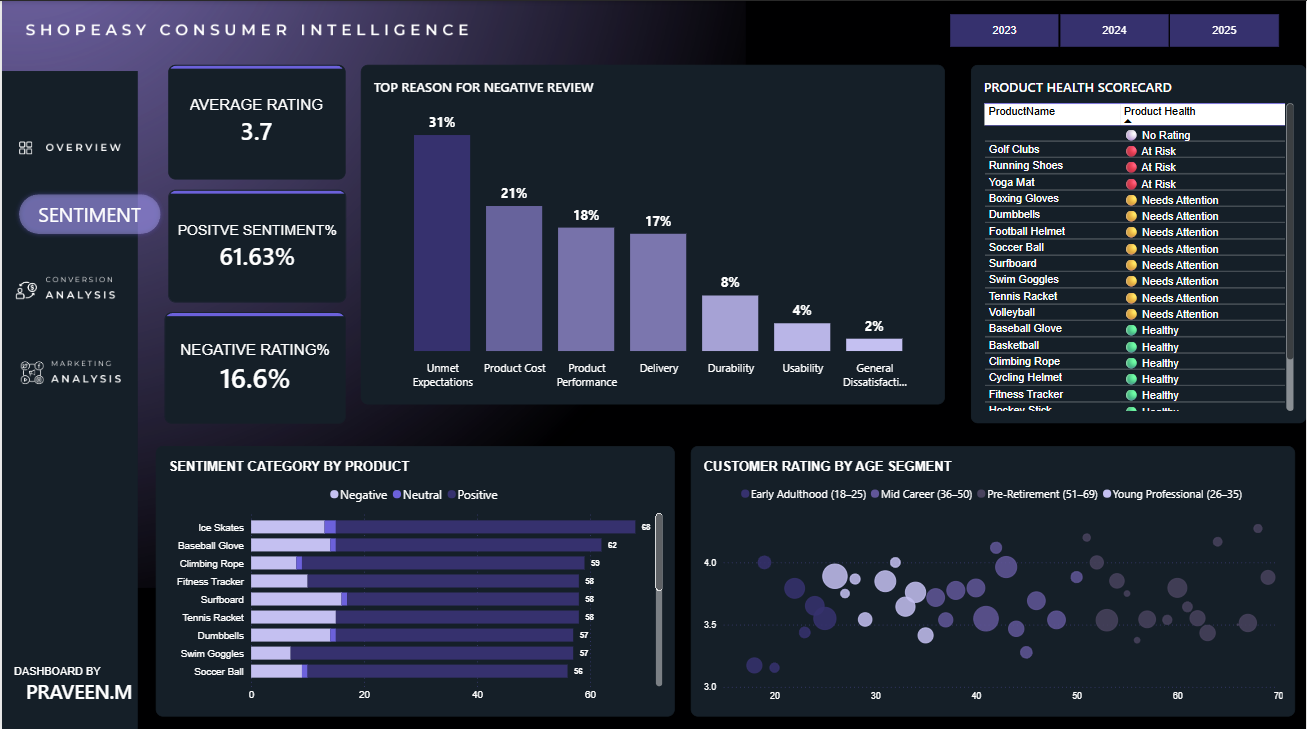

The page's visual inventory and layout, read from the dashboard file:
{"tool":"powerbi","page":{"name":" Customer Sentiment","canvas":[1600,900],"ordinal":1},"visuals":[{"type":"cardVisual","fields":{"Data":["calculations.average rating"]},"box":[204,78.2,217.8,141.1],"z":0},{"type":"barChart","title":"SENTIMENT CATEGORY BY PRODUCT","fields":{"Category":["products.ProductName"],"Y":["CountNonNull(customer_reviews_sentiment.ReviewID)"],"Series":["customer_reviews_sentiment.SentimentCategory"]},"box":[188.3,546.7,636.7,331.7],"z":1000},{"type":"shape","box":[0,216.7,161.7,63.3],"z":2000},{"type":"clusteredColumnChart","title":"TOP REASON FOR NEGATIVE  REVIEW","fields":{"Category":["negative_reviews_issues.IssueCategory"],"Y":["Divide(CountNonNull(negative_reviews_issues.IssueCategory), ScopedEval(CountNonNull(negative_reviews_issues.IssueCategor"]},"box":[440,78.3,716.7,416.7],"z":3000},{"type":"scatterChart","title":"CUSTOMER RATING BY AGE SEGMENT","fields":{"Series":["customers.Age Segment"],"X":["customers.Age"],"Size":["CountNonNull(customer_reviews_sentiment.ReviewID)"],"Y":["Avg(customer_reviews_sentiment.Rating)"]},"box":[845,546.7,741.7,331.7],"z":4000},{"type":"tableEx","title":"PRODUCT HEALTH SCORECARD","fields":{"Values":["products.ProductName","calculations.Product Health"]},"box":[1188.3,78.3,411.7,440],"z":5000},{"type":"cardVisual","fields":{"Data":["calculations.% Positive Sentiment"]},"box":[203.3,231.7,218.3,138.3],"z":6000},{"type":"cardVisual","fields":{"Data":["negative_reviews_issues.neagtive review %"]},"box":[199.4,381.9,222.4,136.5],"z":7000},{"type":"shape","box":[0,216.7,215,90],"z":8000},{"type":"slicer","fields":{"Values":["Calendar.Date.Variation.Date Hierarchy.Year"]},"box":[1142.6,13.1,442.6,44.3],"z":9000},{"type":"pageNavigator","box":[0,306.7,183.3,205],"z":10000},{"type":"pageNavigator","box":[0,131.7,183.3,100],"z":11000},{"type":"textbox","box":[0,814.4,182.5,64.4],"z":12000}]}

Visuals, with their boxes in screenshot pixels (x1, y1, x2, y2), scaled from the page's 1600x900 canvas onto the 1307x729 screenshot:
cardVisual - calculations.average rating: 167, 63, 345, 178
"SENTIMENT CATEGORY BY PRODUCT" barChart: 154, 443, 674, 712
shape: 0, 176, 132, 227
"TOP REASON FOR NEGATIVE  REVIEW" clusteredColumnChart: 359, 63, 945, 401
"CUSTOMER RATING BY AGE SEGMENT" scatterChart: 690, 443, 1296, 712
"PRODUCT HEALTH SCORECARD" tableEx: 971, 63, 1306, 420
cardVisual - calculations.% Positive Sentiment: 166, 188, 344, 300
cardVisual - negative_reviews_issues.neagtive review %: 163, 309, 345, 420
shape: 0, 176, 176, 248
slicer - Calendar.Date.Variation.Date Hierarchy.Year: 933, 11, 1295, 46
pageNavigator: 0, 248, 150, 414
pageNavigator: 0, 107, 150, 188
textbox: 0, 660, 149, 712
